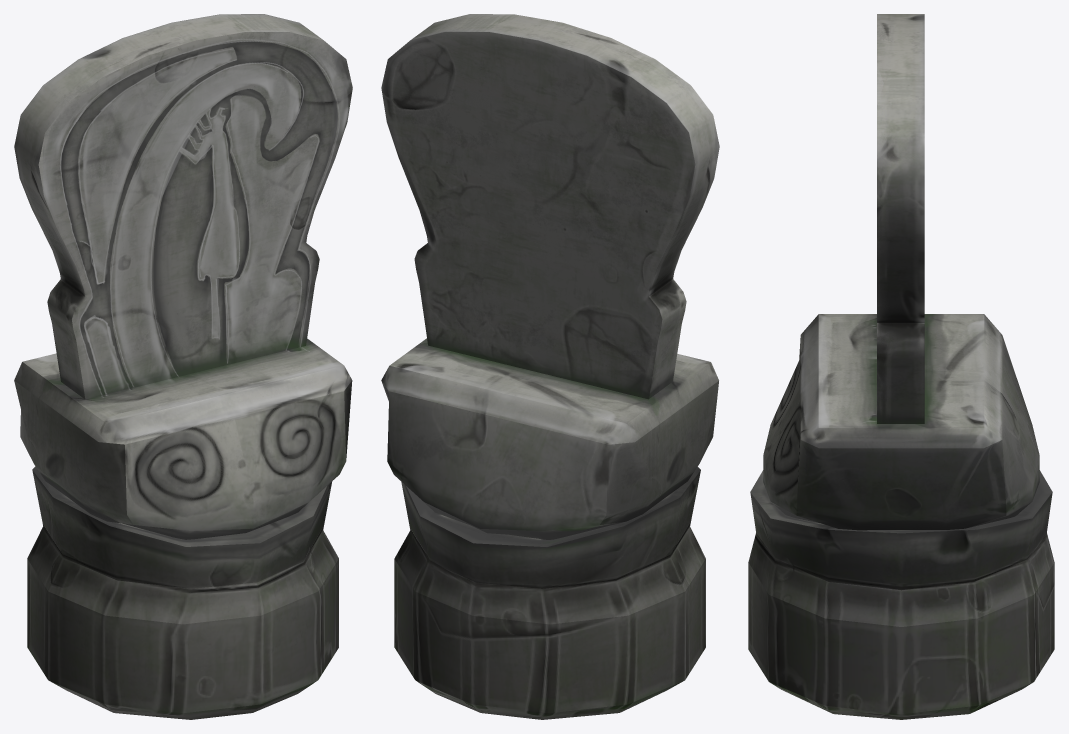
Rendered from 7_Estatua.fbx.
The picture shows the model from 3 angles, left to right: view 1: azimuth 30°, elevation 25°; view 2: azimuth 150°, elevation 25°; view 3: azimuth 270°, elevation 25°; orthographic projection.
Visible parts, largest first — view 1: 7_Placa; view 2: 7_Placa; view 3: 7_Placa.
Part boxes in pixels (x1,y1,x2,y2): 7_Placa: (14, 14, 352, 719); 7_Placa: (381, 14, 719, 719); 7_Placa: (748, 14, 1054, 719).
Size of the model in its own units: 141 by 271 by 121.
